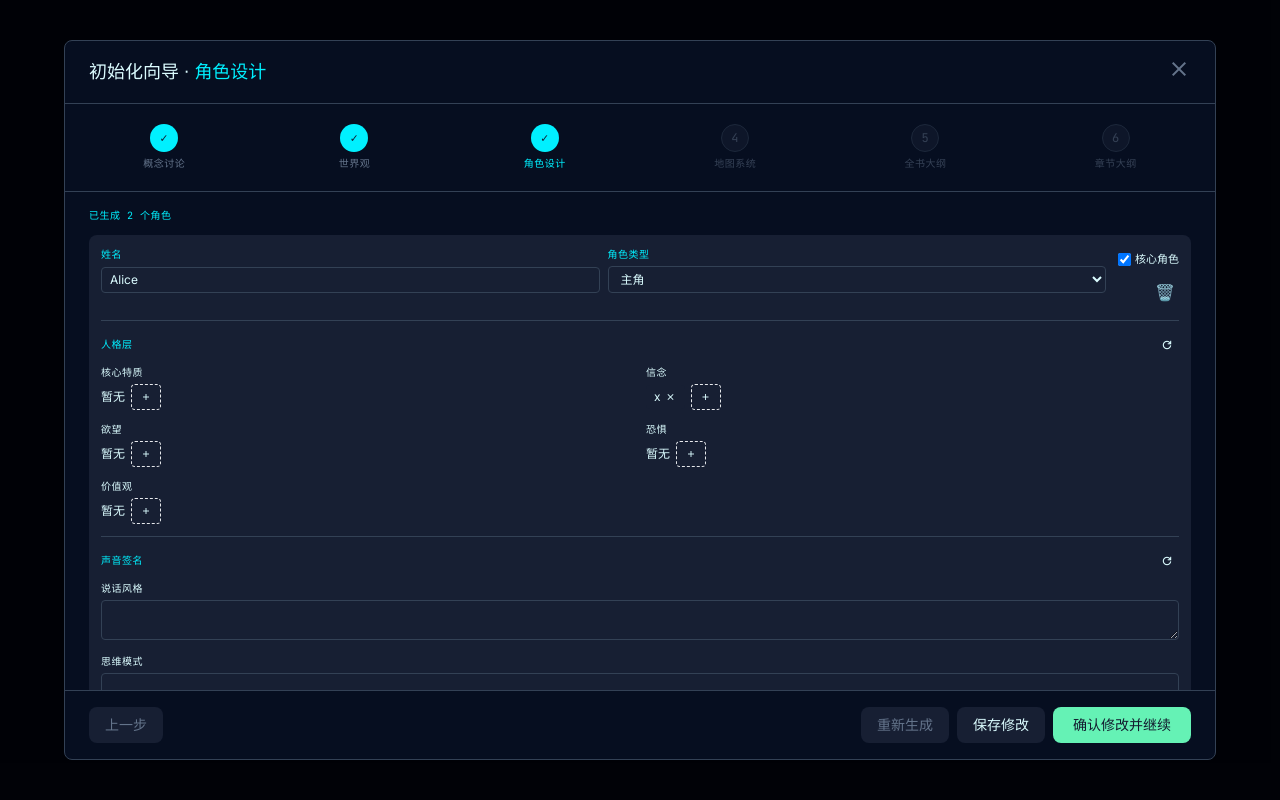
it: CharacterStep edit + delete › regenerate button opens the full-character RegenerateModal
Click the button with test id "wizard-regenerate".
click(905, 725)  # box [861,707,949,743]
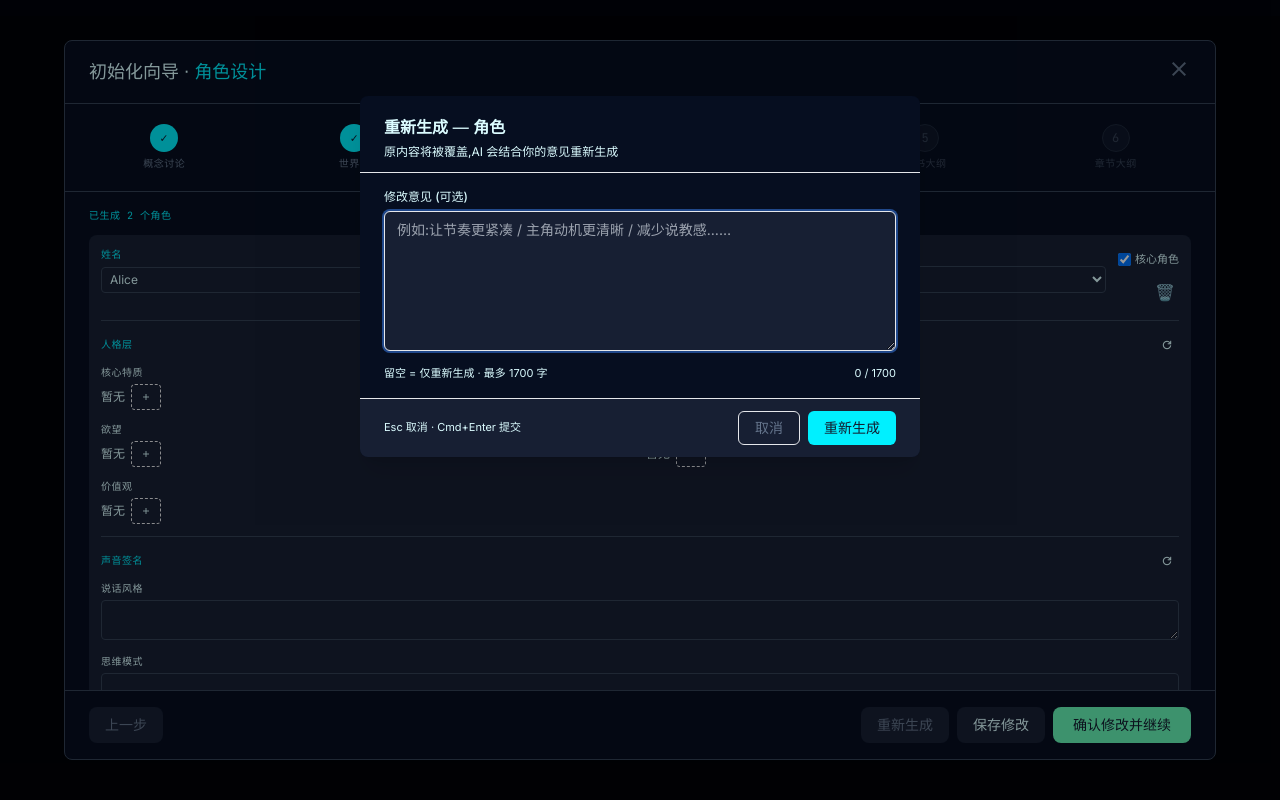
Check: the element with test id "regenerate-modal" is shown, box [360,96,920,456]
Check: the heading "重新生成 — 角色" is shown, box [384,117,505,138]
